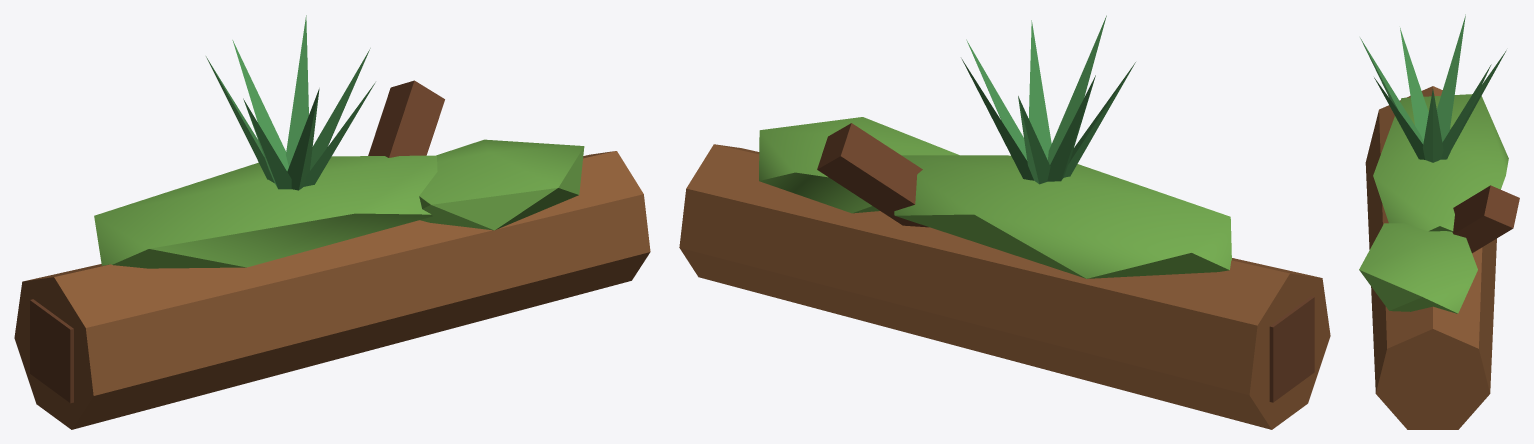
File: terrarium_moss_log.glb
3 renders of one model, left to right at view 1: azimuth 30°, elevation 25°; view 2: azimuth 150°, elevation 25°; view 3: azimuth 270°, elevation 25°, orthographic. The views are drawn at different scales.
Visible parts, largest first — view 1: terrarium_moss_log; view 2: terrarium_moss_log; view 3: terrarium_moss_log.
Part boxes in pixels (x1=…): terrarium_moss_log: x1=14, y1=15, x2=650, y2=429; terrarium_moss_log: x1=679, y1=15, x2=1330, y2=429; terrarium_moss_log: x1=1359, y1=14, x2=1519, y2=429.
Size of the model in its own units: 1.61 by 0.8354 by 0.4662.
1 material, 1 textured.
